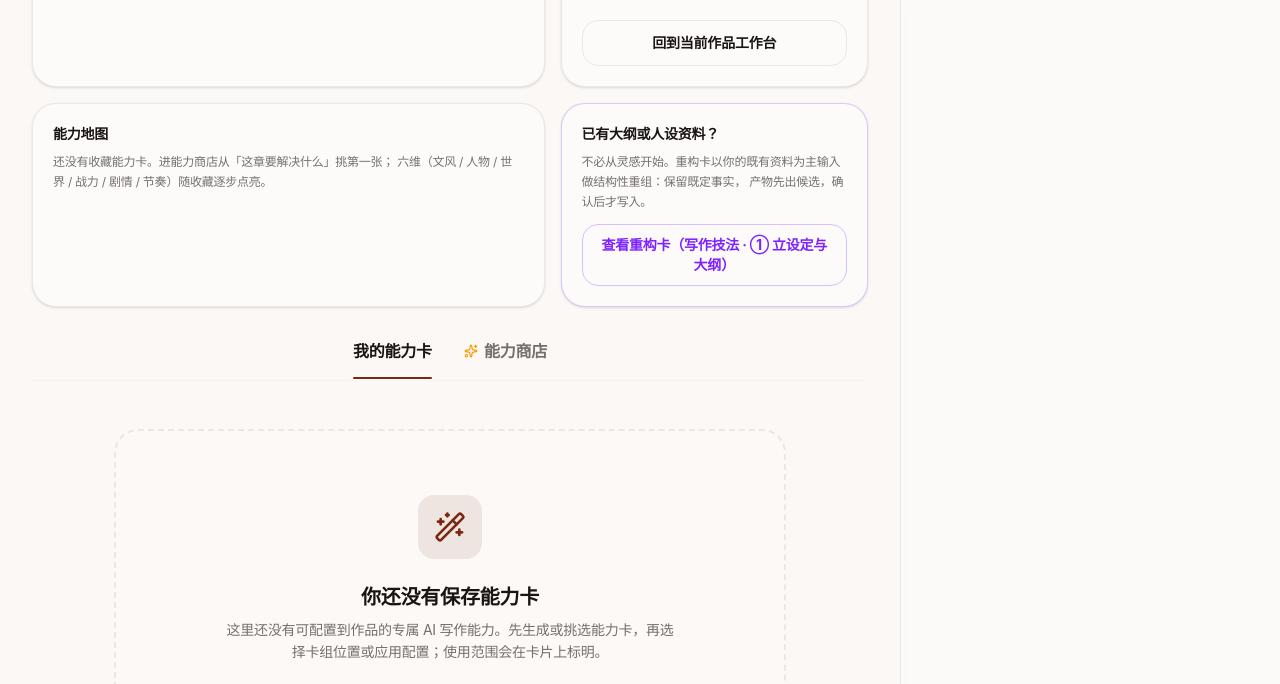
Test: Plan 158 capability center › explains outline package results as outline setup instead of deck setup
(page scrolled)
Click the button "能力商店".
click(505, 358)  # box left=464, top=338, right=547, bottom=378
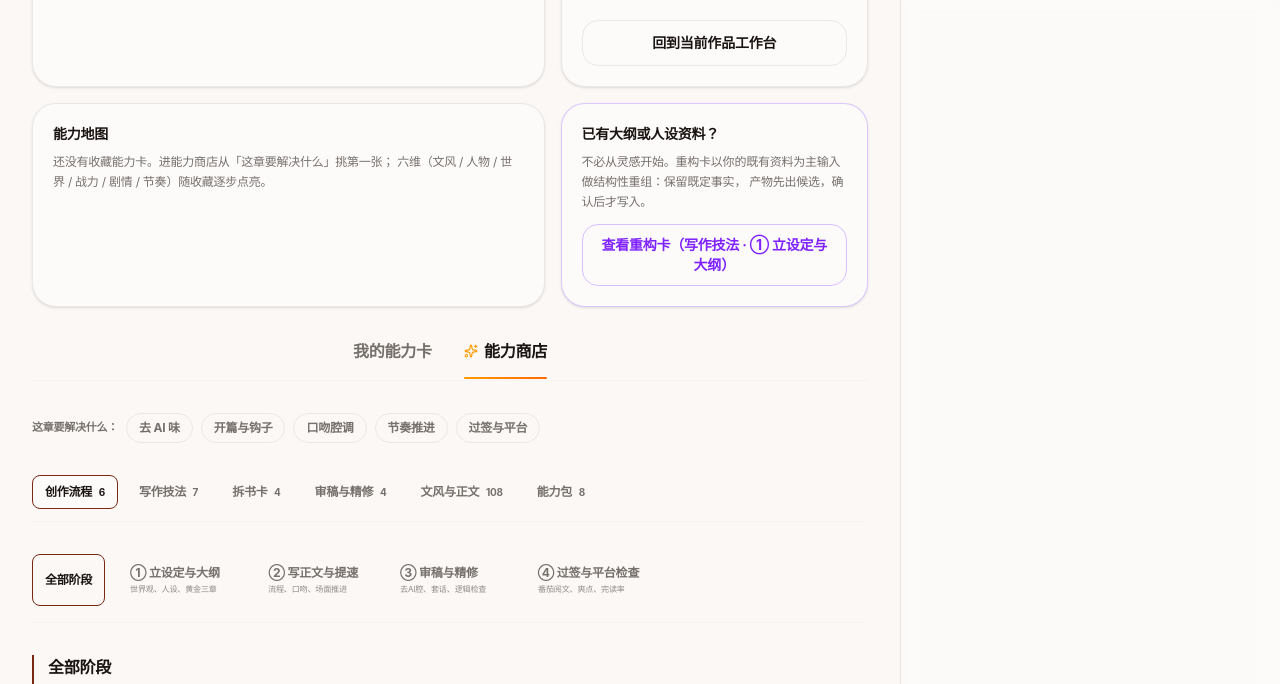
Expected: the tab "能力包 8" is shown
Click the tab "能力包 8".
click(561, 492)  # box left=524, top=474, right=598, bottom=508
(page scrolled)
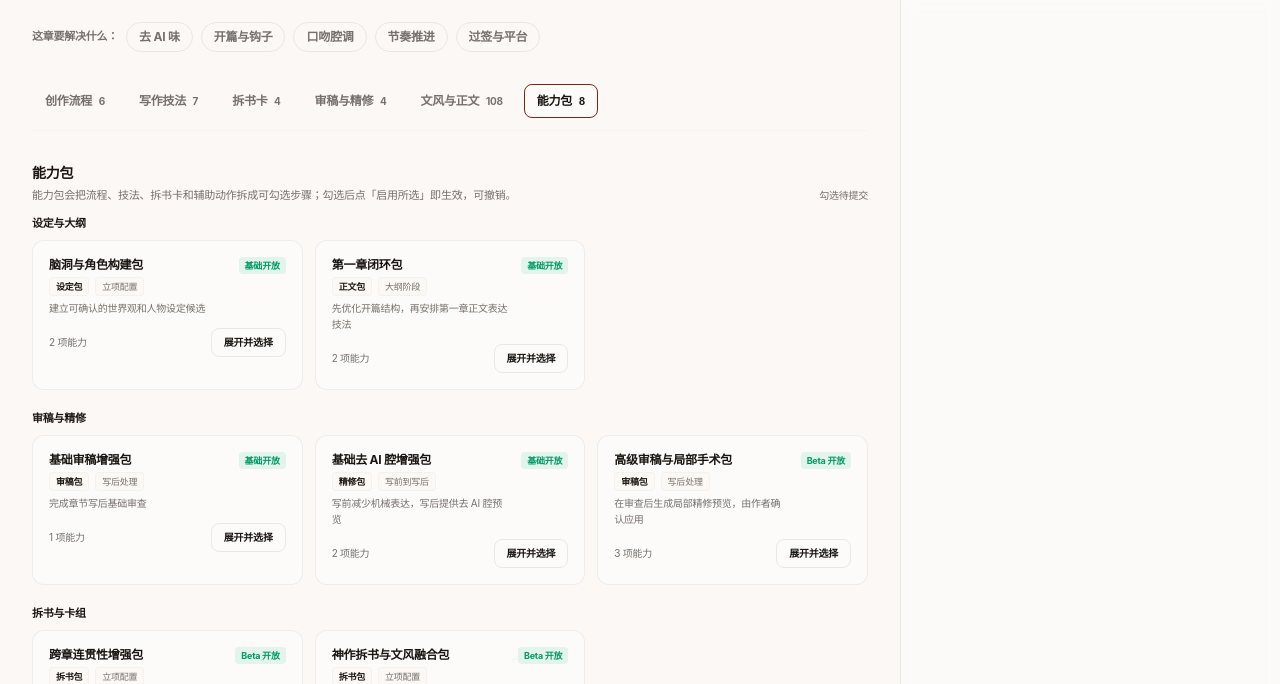
Click the button "展开并选择" below "先优化开篇结构，再安排第一章正文表达技法".
click(531, 358)  # box left=494, top=344, right=568, bottom=373
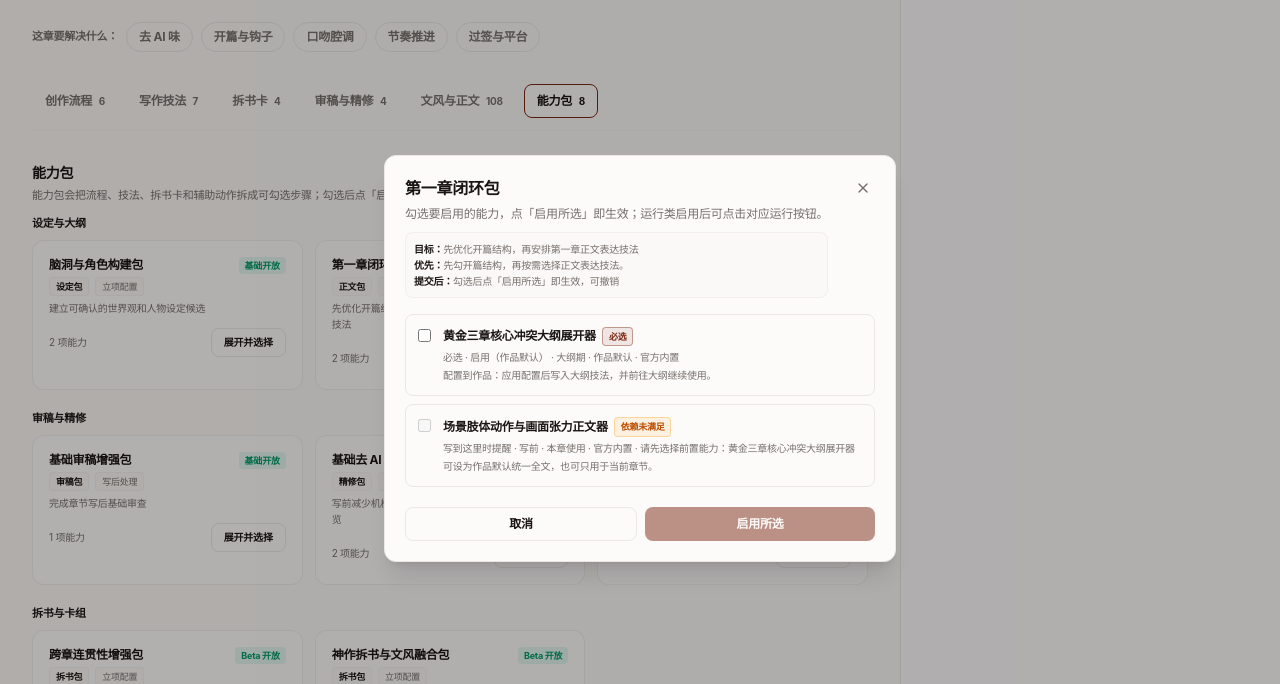
Expected: the text "配置到作品：应用配置后写入大纲技法，并前往大纲继续使用。" is shown, left=443, top=369, right=716, bottom=381
Click the checkbox named "选择 黄金三章核心冲突大纲展开器".
click(424, 335)  # box left=418, top=328, right=431, bottom=342
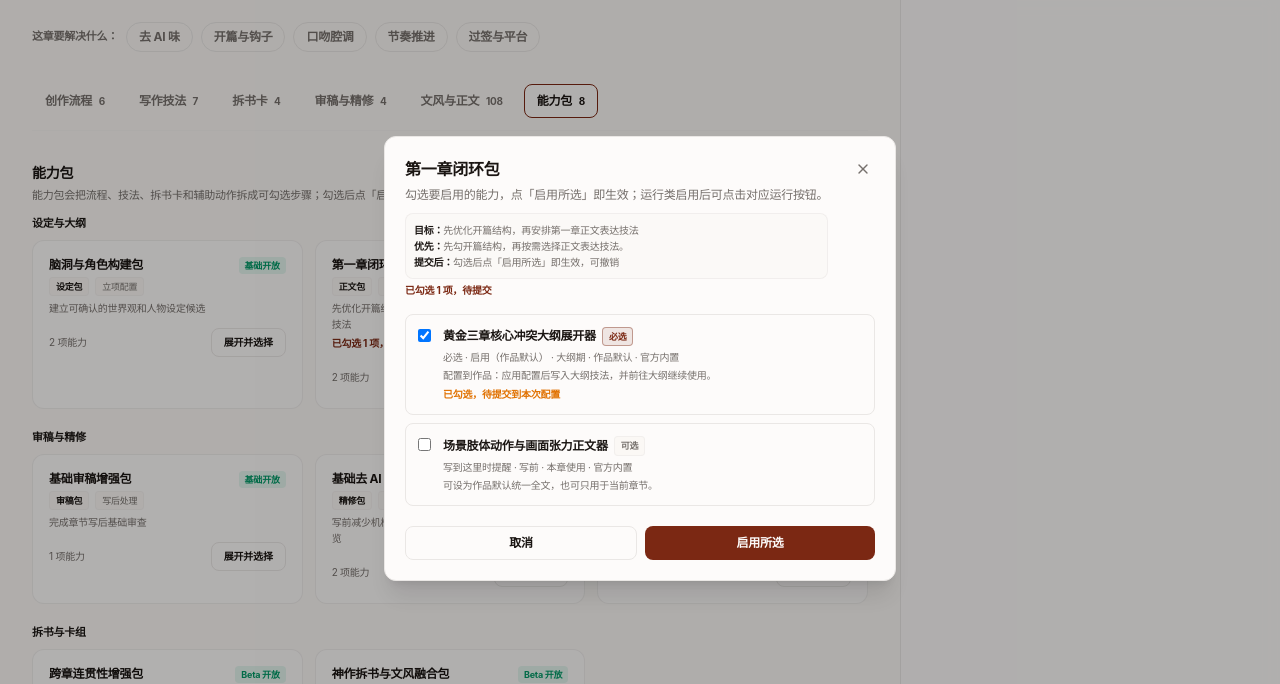
Click the checkbox named "选择 场景肢体动作与画面张力正文器".
click(424, 444)  # box left=418, top=438, right=431, bottom=451
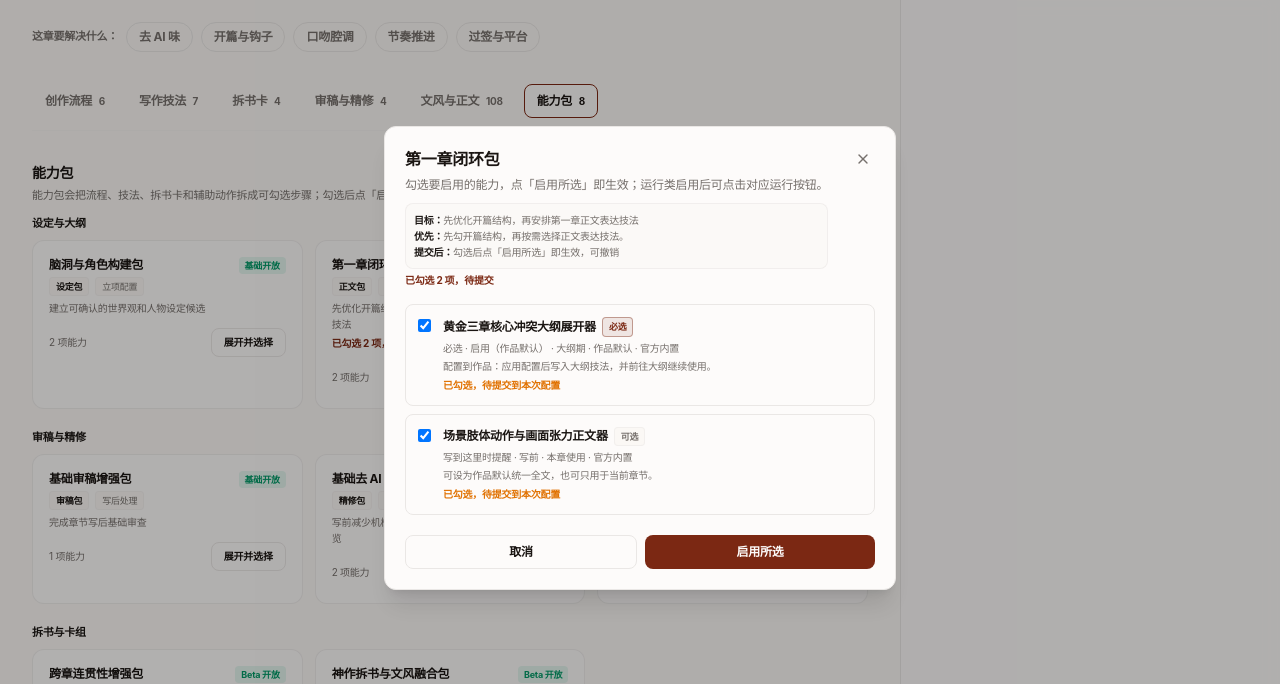
Expected: the checkbox named "选择 黄金三章核心冲突大纲展开器" is checked, left=418, top=319, right=431, bottom=332
Expected: the checkbox named "选择 场景肢体动作与画面张力正文器" is checked, left=418, top=428, right=431, bottom=442
Click the button "启用所选".
click(760, 552)  # box left=645, top=535, right=875, bottom=569
(page scrolled)
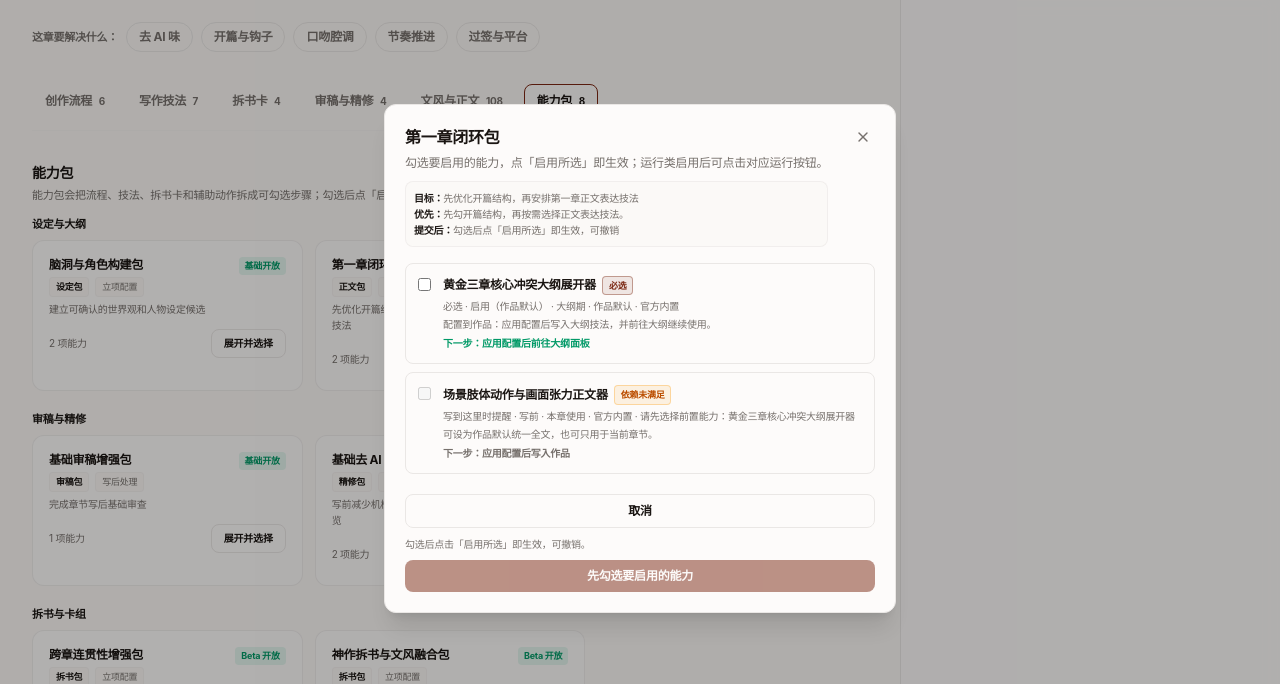
Expected: the text "下一步：应用配置后前往大纲面板" is shown, left=443, top=337, right=589, bottom=349
